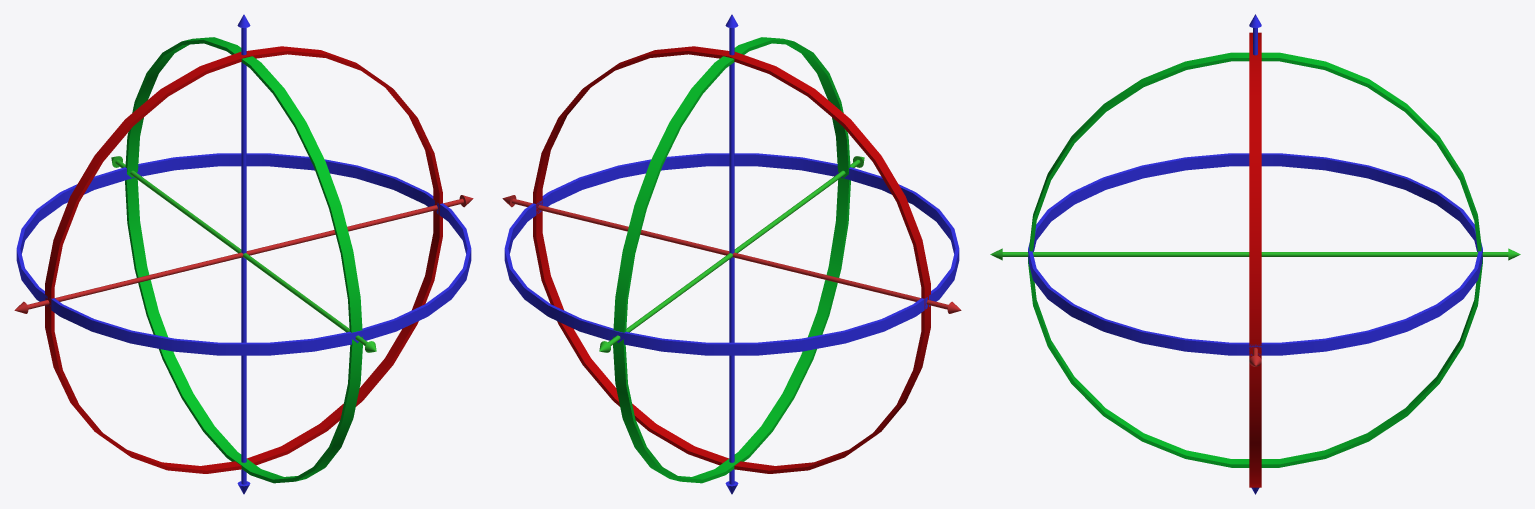
Rendered from axis_2.gltf.
3 views of the same model, side by side, from view 1: azimuth 30°, elevation 25°; view 2: azimuth 150°, elevation 25°; view 3: azimuth 270°, elevation 25° (orthographic).
Visible parts, largest first — view 1: ZAxis_1, XAxis_1, YAxis_1, ZArrow_1, XArrow_1, YArrow_1; view 2: ZAxis_1, XAxis_1, YAxis_1, ZArrow_1, XArrow_1, YArrow_1; view 3: ZAxis_1, XAxis_1, YAxis_1, YArrow_1.
Boxes of the visible parts, x1,y1,x2,y2 form: ZAxis_1: (16,153,471,355); XAxis_1: (125,37,362,483); YAxis_1: (45,46,442,473); ZArrow_1: (237,14,250,494); XArrow_1: (14,195,473,313); YArrow_1: (111,156,376,352); ZAxis_1: (504,153,959,355); XAxis_1: (613,37,850,483); YAxis_1: (533,46,930,473); ZArrow_1: (725,14,738,494); XArrow_1: (502,195,961,313); YArrow_1: (599,156,864,352); ZAxis_1: (1028,153,1482,355); XAxis_1: (1028,52,1482,467); YAxis_1: (1249,32,1261,487); YArrow_1: (990,248,1520,260).
Bounding box in the file's own units: 4.2 × 4.2 × 4.2.
